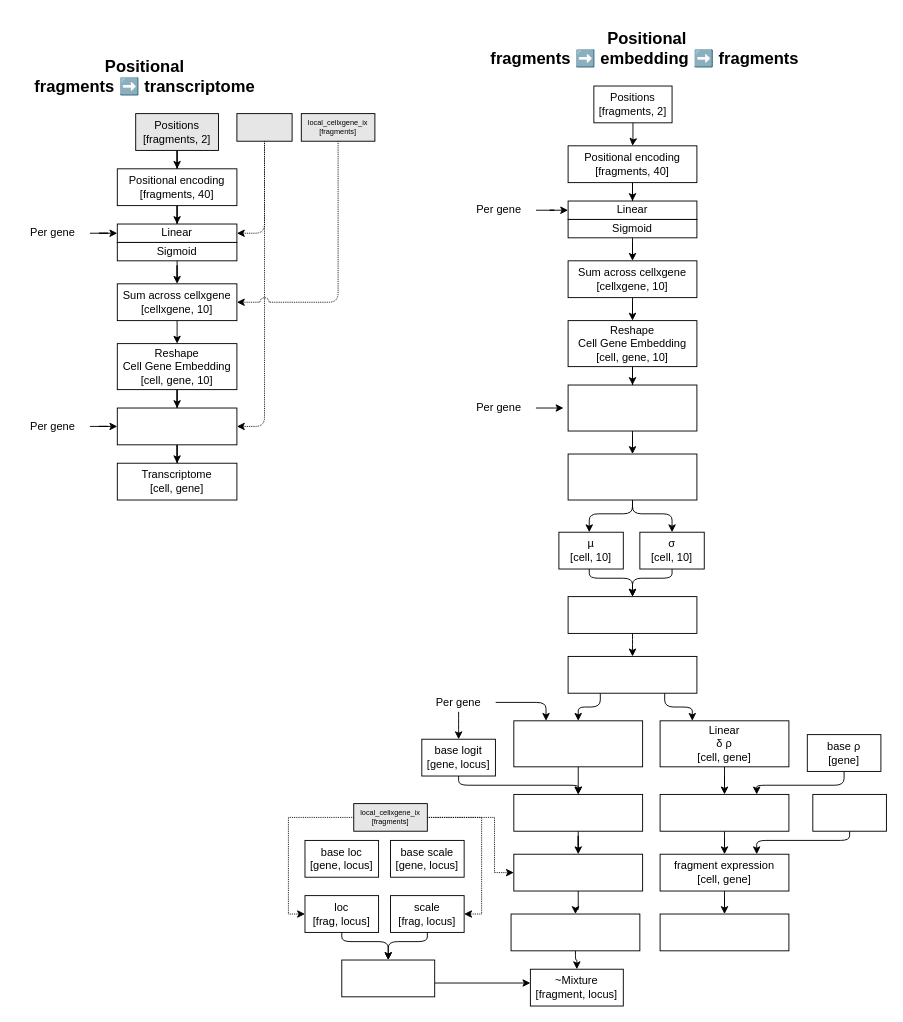
Image size: 903x1022. Some labels were removed from this diagram. Each missing label, with the box of its shape:
Genemapping [fragments]: (236, 113, 292, 141)
lib [cell]: (812, 794, 886, 831)
Linear [cell, gene, 1]: (116, 407, 237, 445)
Linear Cell Embedding [cell, 10]: (567, 384, 697, 431)
Linear δ logit [cell, gene, locus]: (513, 720, 643, 767)
logit [cell, gene, locus]: (513, 794, 643, 831)
logit [fragment, locus]: (513, 853, 643, 891)
NN [cell, 16]: (567, 656, 697, 693)
NN Cell Embedding [cell, 10]: (567, 453, 697, 500)
z ~ Normal [cell, 10]: (567, 596, 697, 633)
~Categorical [fragment, locus]: (510, 913, 640, 951)
~Normal [frag, locus]: (341, 959, 435, 997)
~Poisson [cell, gene]: (659, 913, 789, 951)
ρ [cell, gene]: (659, 794, 789, 831)
